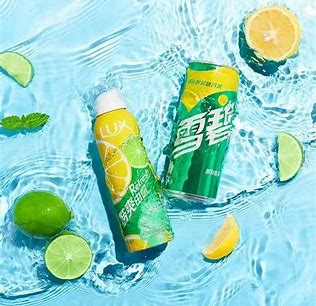Sprite: (163, 56, 241, 213)
